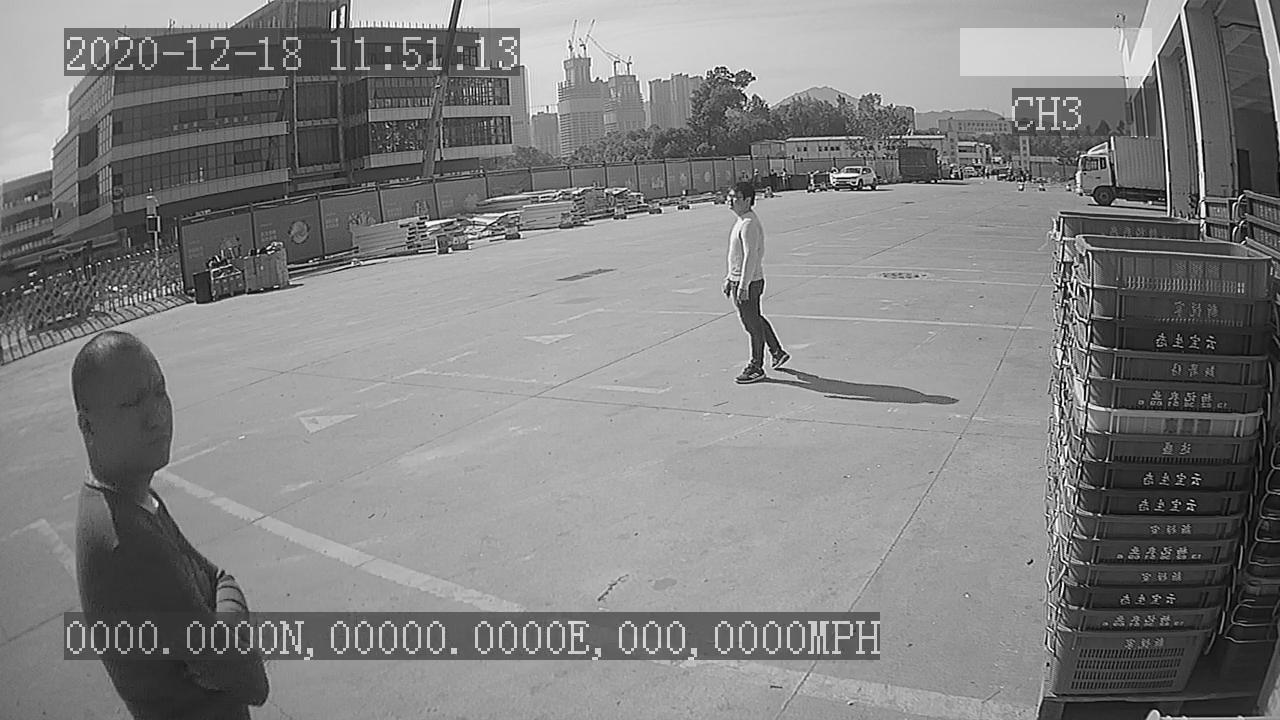person: (715, 181, 792, 390)
